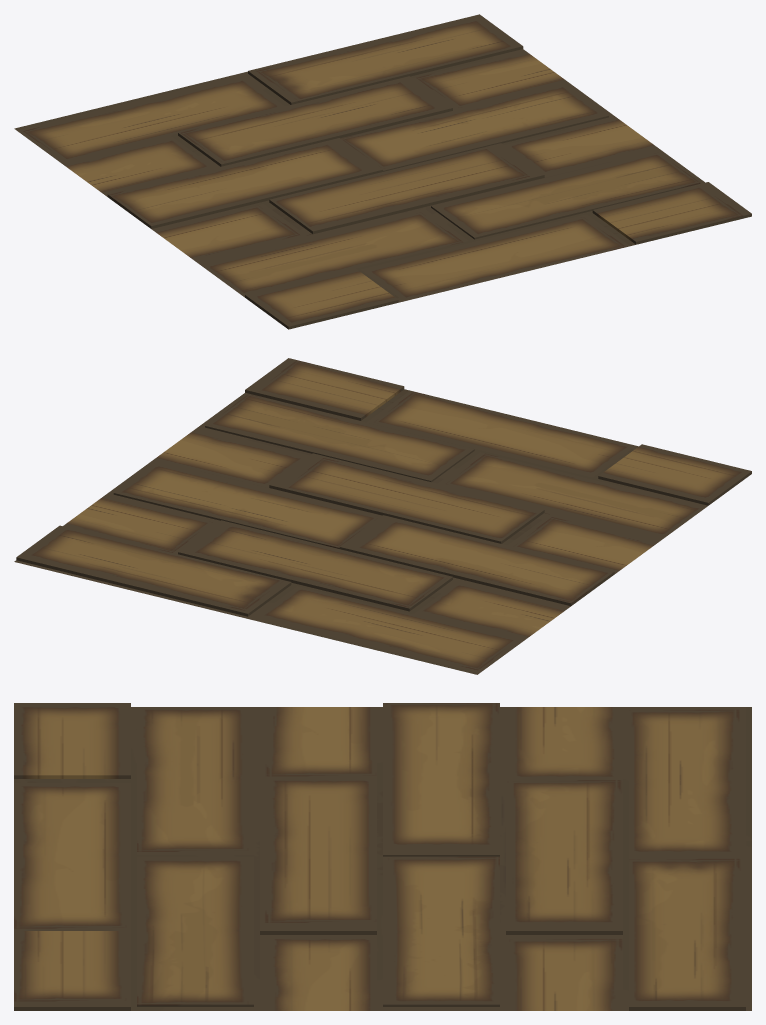
The model's file is Floor.fbx.
3 views of the same model, one above another, from view 1: azimuth 30°, elevation 25°; view 2: azimuth 150°, elevation 25°; view 3: azimuth 270°, elevation 25° (orthographic). The views are drawn at different scales.
Parts seen in each view (by area): view 1: Wall_A.001; view 2: Wall_A.001; view 3: Wall_A.001.
Part boxes in pixels (x1,y1,x2,y2): Wall_A.001: [14, 14, 751, 329]; Wall_A.001: [14, 358, 751, 674]; Wall_A.001: [14, 703, 751, 1010].
Bounding box in the file's own units: 9905 × 58.83 × 10166.
